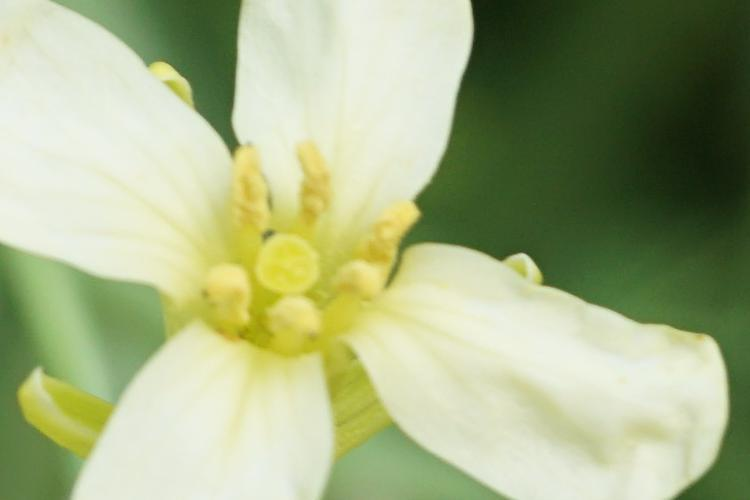white: (10, 9, 723, 500)
